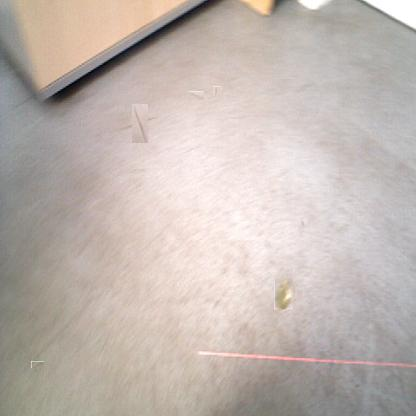dirty: (274, 278, 293, 310)
mark: (126, 109, 154, 137), (188, 91, 204, 100), (32, 360, 42, 370), (213, 87, 222, 96), (300, 219, 308, 226)
